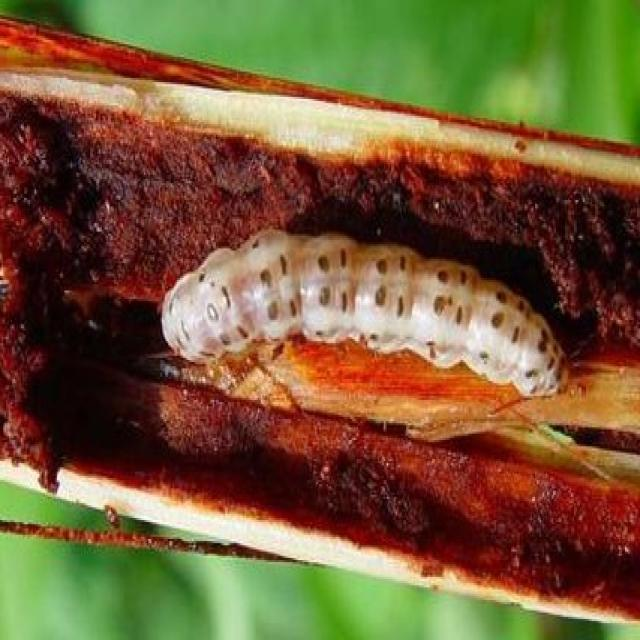peach borer: (158, 230, 570, 409)
